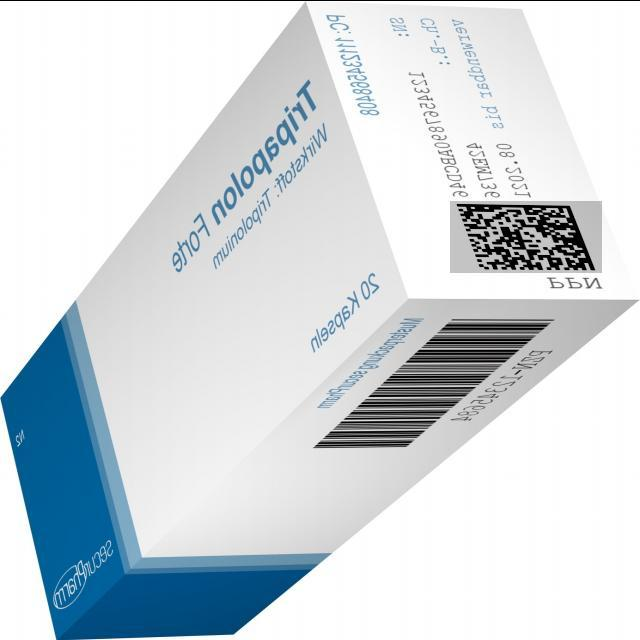Data-Matrix: (450, 200, 602, 272)
